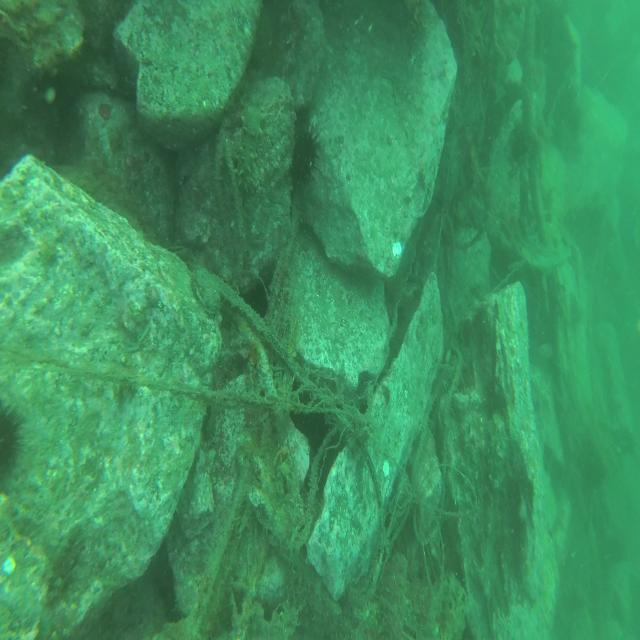echinus: (0, 395, 28, 483), (290, 120, 324, 188)
holothurian: (38, 520, 92, 606), (233, 100, 269, 193)
